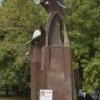Statue: (22, 1, 80, 68)
